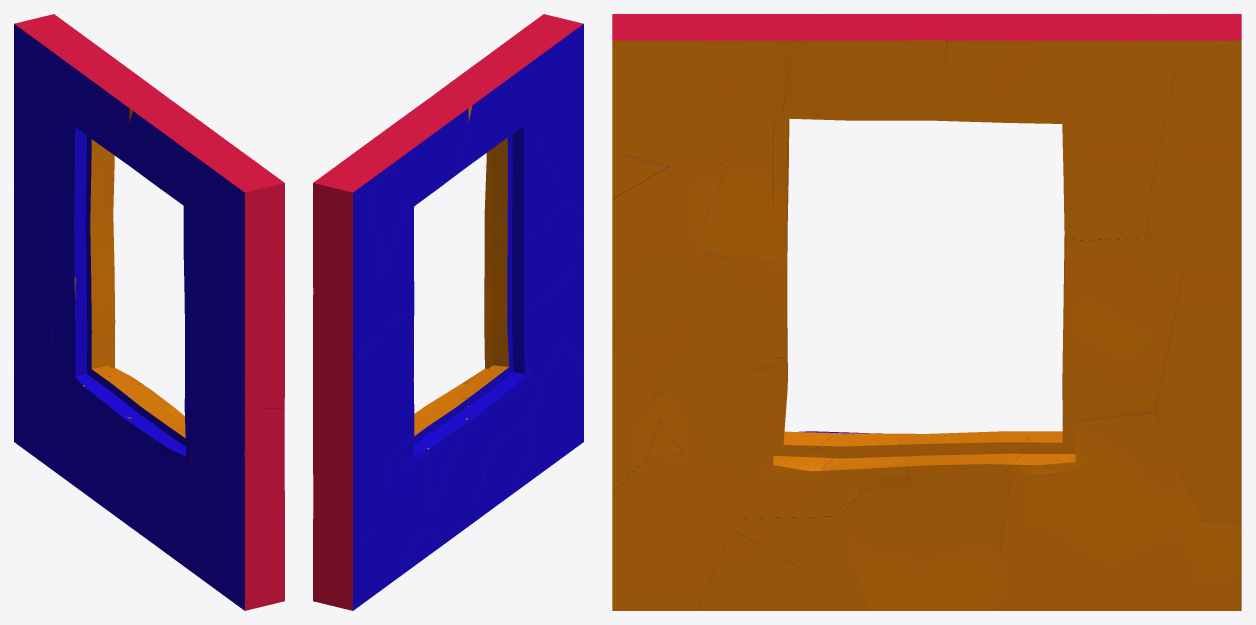
Rendered from Wall_Window_Half_Fractured.fbx.
3 views of the same model, side by side, from view 1: azimuth 30°, elevation 25°; view 2: azimuth 150°, elevation 25°; view 3: azimuth 270°, elevation 25° (orthographic). The views are drawn at different scales.
Visible parts, largest first — view 1: Wall_Window_Half_cell.026, Wall_Window_Half_cell.011, Wall_Window_Half_cell.008, Wall_Window_Half_cell.007, Wall_Window_Half_cell.006, Wall_Window_Half_cell.022, Wall_Window_Half_cell.034, Wall_Window_Half_cell.030, Wall_Window_Half_cell.035, Wall_Window_Half_cell.025, Wall_Window_Half_cell.002, Wall_Window_Half_cell.023 (+15 smaller); view 2: Wall_Window_Half_cell.034, Wall_Window_Half_cell.023, Wall_Window_Half_cell.036, Wall_Window_Half_cell.026, Wall_Window_Half_cell.006, Wall_Window_Half_cell.025, Wall_Window_Half_cell.024, Wall_Window_Half_cell.007, Wall_Window_Half_cell.002, Wall_Window_Half_cell.008, Wall_Window_Half_cell.035, Wall_Window_Half_cell.011 (+14 smaller); view 3: Wall_Window_Half_cell.006, Wall_Window_Half_cell.035, Wall_Window_Half_cell.026, Wall_Window_Half_cell.011, Wall_Window_Half_cell.023, Wall_Window_Half_cell.025, Wall_Window_Half_cell.034, Wall_Window_Half_cell.037, Wall_Window_Half_cell.007, Wall_Window_Half_cell.018, Wall_Window_Half_cell.020, Wall_Window_Half_cell.013 (+13 smaller).
Boxes of the visible parts, <box> form: Wall_Window_Half_cell.026: <box>168,134,284,263</box>; Wall_Window_Half_cell.011: <box>39,205,115,362</box>; Wall_Window_Half_cell.008: <box>194,226,284,384</box>; Wall_Window_Half_cell.007: <box>193,478,284,610</box>; Wall_Window_Half_cell.006: <box>51,46,161,181</box>; Wall_Window_Half_cell.022: <box>224,408,284,537</box>; Wall_Window_Half_cell.034: <box>14,194,52,392</box>; Wall_Window_Half_cell.030: <box>42,114,113,227</box>; Wall_Window_Half_cell.035: <box>38,338,141,474</box>; Wall_Window_Half_cell.025: <box>185,329,284,426</box>; Wall_Window_Half_cell.002: <box>90,422,156,516</box>; Wall_Window_Half_cell.023: <box>14,14,57,205</box>; Wall_Window_Half_cell.034: <box>313,339,391,548</box>; Wall_Window_Half_cell.023: <box>313,180,380,362</box>; Wall_Window_Half_cell.036: <box>484,126,568,247</box>; Wall_Window_Half_cell.026: <box>477,14,583,130</box>; Wall_Window_Half_cell.006: <box>358,102,472,203</box>; Wall_Window_Half_cell.025: <box>484,202,583,310</box>; Wall_Window_Half_cell.024: <box>313,525,411,610</box>; Wall_Window_Half_cell.007: <box>531,340,583,474</box>; Wall_Window_Half_cell.002: <box>429,397,501,544</box>; Wall_Window_Half_cell.008: <box>534,65,583,215</box>; Wall_Window_Half_cell.035: <box>377,433,431,541</box>; Wall_Window_Half_cell.011: <box>378,311,414,453</box>; Wall_Window_Half_cell.006: <box>916,14,1176,208</box>; Wall_Window_Half_cell.035: <box>999,412,1202,587</box>; Wall_Window_Half_cell.026: <box>612,14,820,166</box>; Wall_Window_Half_cell.011: <box>1062,236,1184,421</box>; Wall_Window_Half_cell.023: <box>1146,14,1241,274</box>; Wall_Window_Half_cell.025: <box>612,251,787,394</box>; Wall_Window_Half_cell.034: <box>1154,268,1241,524</box>; Wall_Window_Half_cell.037: <box>839,486,1013,610</box>; Wall_Window_Half_cell.007: <box>612,453,731,610</box>; Wall_Window_Half_cell.018: <box>654,349,835,472</box>; Wall_Window_Half_cell.020: <box>612,164,727,328</box>; Wall_Window_Half_cell.013: <box>782,15,946,114</box>.
Bounding box in the file's own units: 121 × 1000 × 1000.
